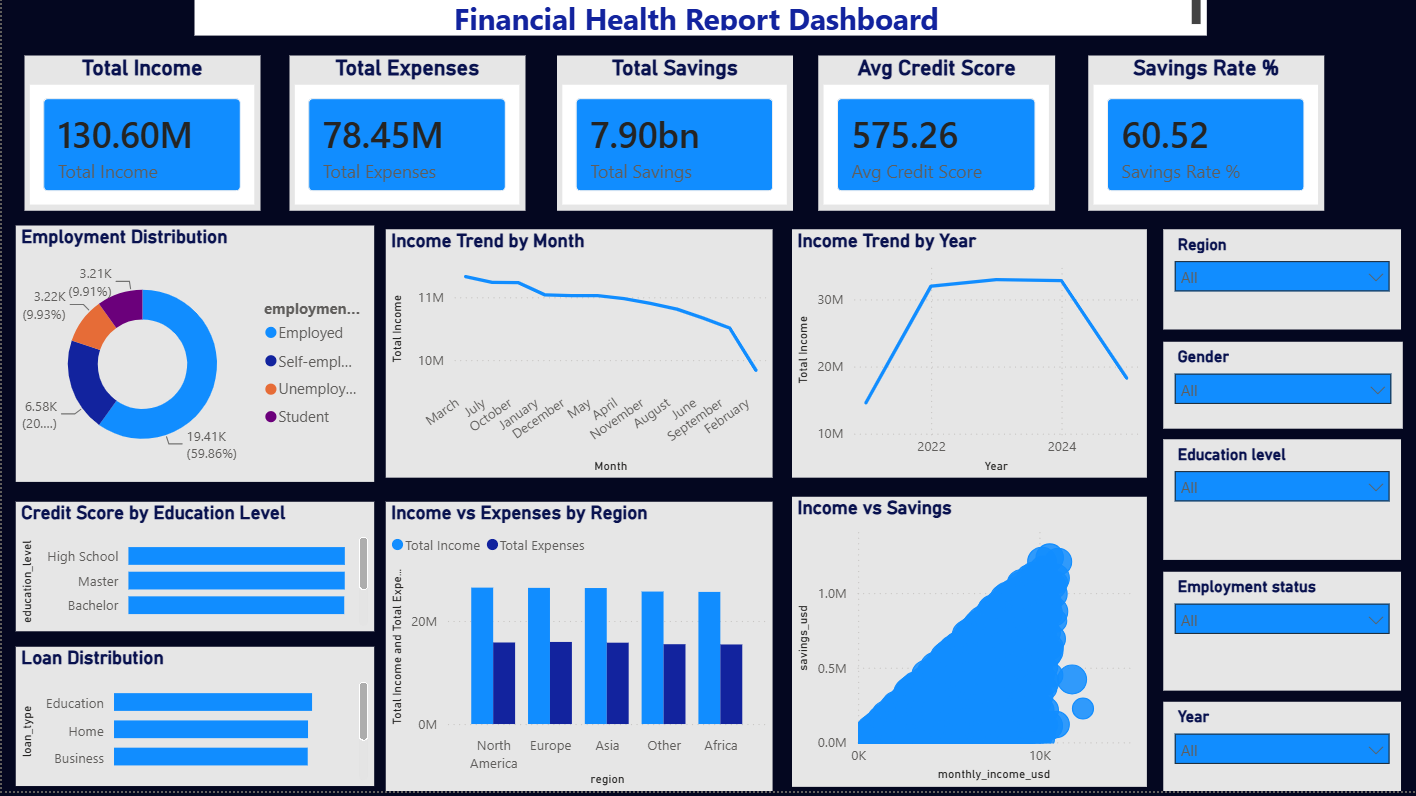

Layout of this report page (visuals, bound fields, positions):
{"tool":"powerbi","page":{"name":"Page 1","canvas":[1280,720],"ordinal":0},"visuals":[{"type":"clusteredColumnChart","title":"Income vs Expenses by Region","fields":{"Category":["Cleaned_Data.region"],"Y":["Cleaned_Data.Total Income","Cleaned_Data.Total Expenses"]},"box":[345.7,458.6,348.6,261.4],"z":0},{"type":"donutChart","title":"Employment Distribution","fields":{"Category":["Cleaned_Data.employment_status"],"Y":["CountNonNull(Cleaned_Data.user_id)"]},"box":[12.9,210,322.9,231.4],"z":1000},{"type":"barChart","title":"Credit Score by Education Level","fields":{"Category":["Cleaned_Data.education_level"],"Y":["Cleaned_Data.Avg Credit Score"]},"box":[12.9,458.6,322.9,117.1],"z":2000},{"type":"lineChart","title":"Income Trend by Year","fields":{"Category":["Cleaned_Data.Year"],"Y":["Cleaned_Data.Total Income"]},"box":[712.9,212.9,320,224.3],"z":3000},{"type":"lineChart","title":"Income Trend by Month","fields":{"Category":["Cleaned_Data.Month"],"Y":["Cleaned_Data.Total Income"]},"box":[345.7,212.9,348.6,224.3],"z":4000},{"type":"barChart","title":"Loan Distribution","fields":{"Category":["Cleaned_Data.loan_type"],"Y":["Sum(Cleaned_Data.loan_amount_usd)"]},"box":[12.9,590,322.9,125.7],"z":5000},{"type":"scatterChart","title":"Income vs Savings","fields":{"Y":["Cleaned_Data.savings_usd"],"X":["Cleaned_Data.monthly_income_usd"],"Size":["Sum(Cleaned_Data.credit_score)"]},"box":[712.9,454.3,320,261.4],"z":6000},{"type":"cardVisual","title":"Total Income","fields":{"Data":["Cleaned_Data.Total Income"]},"box":[20,56.2,212.5,140],"z":6001},{"type":"cardVisual","title":"Total Savings","fields":{"Data":["Cleaned_Data.Total Savings"]},"box":[500,56.2,212.5,140],"z":6003},{"type":"cardVisual","title":"Savings Rate %","fields":{"Data":["Cleaned_Data.Savings Rate %"]},"box":[980,56.2,212.5,140],"z":6004},{"type":"cardVisual","title":"Avg Credit Score","fields":{"Data":["Cleaned_Data.Avg Credit Score"]},"box":[736.2,56.2,213.8,140],"z":6005},{"type":"cardVisual","title":"Total Expenses","fields":{"Data":["Cleaned_Data.Total Expenses"]},"box":[258.8,56.2,212.5,140],"z":6006},{"type":"slicer","fields":{"Values":["Cleaned_Data.region"]},"box":[1047.1,212.9,214.3,90],"z":6007},{"type":"slicer","fields":{"Values":["Cleaned_Data.gender"]},"box":[1047.1,314.3,215.7,78.6],"z":6008},{"type":"slicer","fields":{"Values":["Cleaned_Data.education_level"]},"box":[1047.1,402.9,214.3,108.6],"z":6009},{"type":"slicer","fields":{"Values":["Cleaned_Data.employment_status"]},"box":[1047.1,521.4,214.3,107.1],"z":6010},{"type":"slicer","fields":{"Values":["Cleaned_Data.Year"]},"box":[1047.1,638.6,214.3,81.4],"z":6011},{"type":"textbox","box":[173.8,0,912.5,38.8],"z":6012}]}

Visuals, with their boxes in screenshot pixels (x1, y1, x2, y2), scaled from the page's 1280x720 canvas onto the 1416x796 screenshot:
"Income vs Expenses by Region" clusteredColumnChart: [x1=382, y1=507, x2=768, y2=795]
"Employment Distribution" donutChart: [x1=14, y1=232, x2=371, y2=488]
"Credit Score by Education Level" barChart: [x1=14, y1=507, x2=371, y2=636]
"Income Trend by Year" lineChart: [x1=789, y1=235, x2=1143, y2=483]
"Income Trend by Month" lineChart: [x1=382, y1=235, x2=768, y2=483]
"Loan Distribution" barChart: [x1=14, y1=652, x2=371, y2=791]
"Income vs Savings" scatterChart: [x1=789, y1=502, x2=1143, y2=791]
"Total Income" cardVisual: [x1=22, y1=62, x2=257, y2=217]
"Total Savings" cardVisual: [x1=553, y1=62, x2=788, y2=217]
"Savings Rate %" cardVisual: [x1=1084, y1=62, x2=1319, y2=217]
"Avg Credit Score" cardVisual: [x1=814, y1=62, x2=1051, y2=217]
"Total Expenses" cardVisual: [x1=286, y1=62, x2=521, y2=217]
slicer - Cleaned_Data.region: [x1=1158, y1=235, x2=1395, y2=335]
slicer - Cleaned_Data.gender: [x1=1158, y1=347, x2=1397, y2=434]
slicer - Cleaned_Data.education_level: [x1=1158, y1=445, x2=1395, y2=565]
slicer - Cleaned_Data.employment_status: [x1=1158, y1=576, x2=1395, y2=695]
slicer - Cleaned_Data.Year: [x1=1158, y1=706, x2=1395, y2=795]
textbox: [x1=192, y1=0, x2=1202, y2=43]
